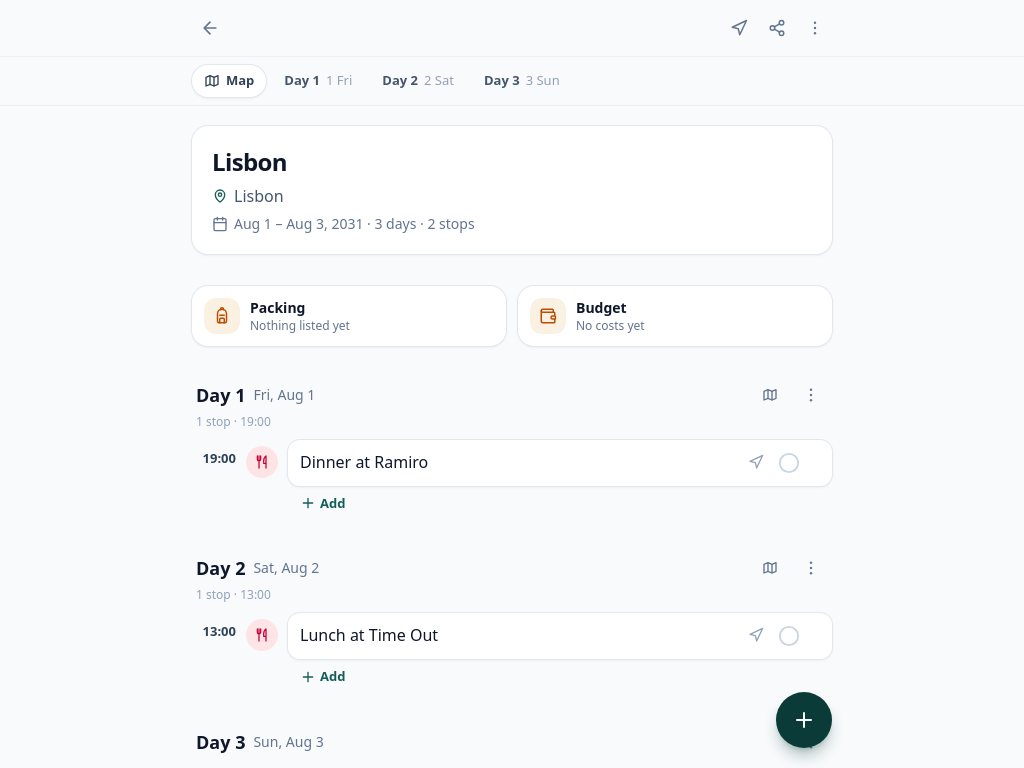
Test: Triplanner › fills in the airports from the flight number
The width and height of the screenshot is (1024, 768).
Click the button with aria-label "Edit Dinner at Ramiro" at (364, 462), box x1=300 y1=450 x2=428 y2=472
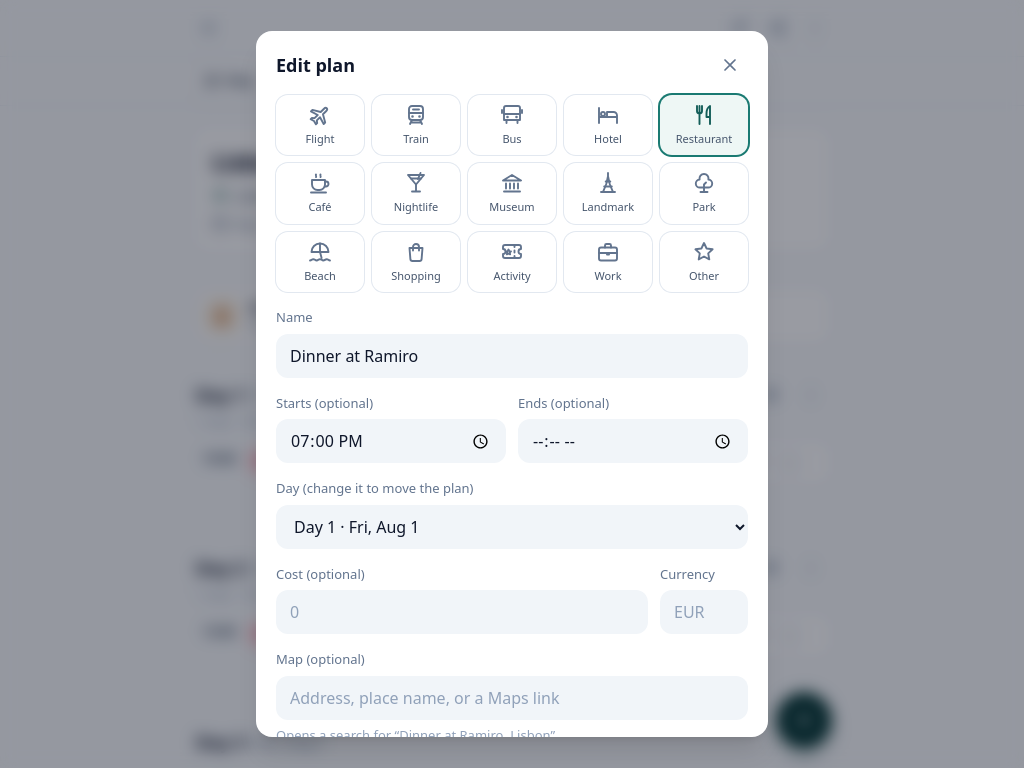
Click the radio button labelled "Flight" at (320, 125), box x1=276 y1=95 x2=364 y2=155
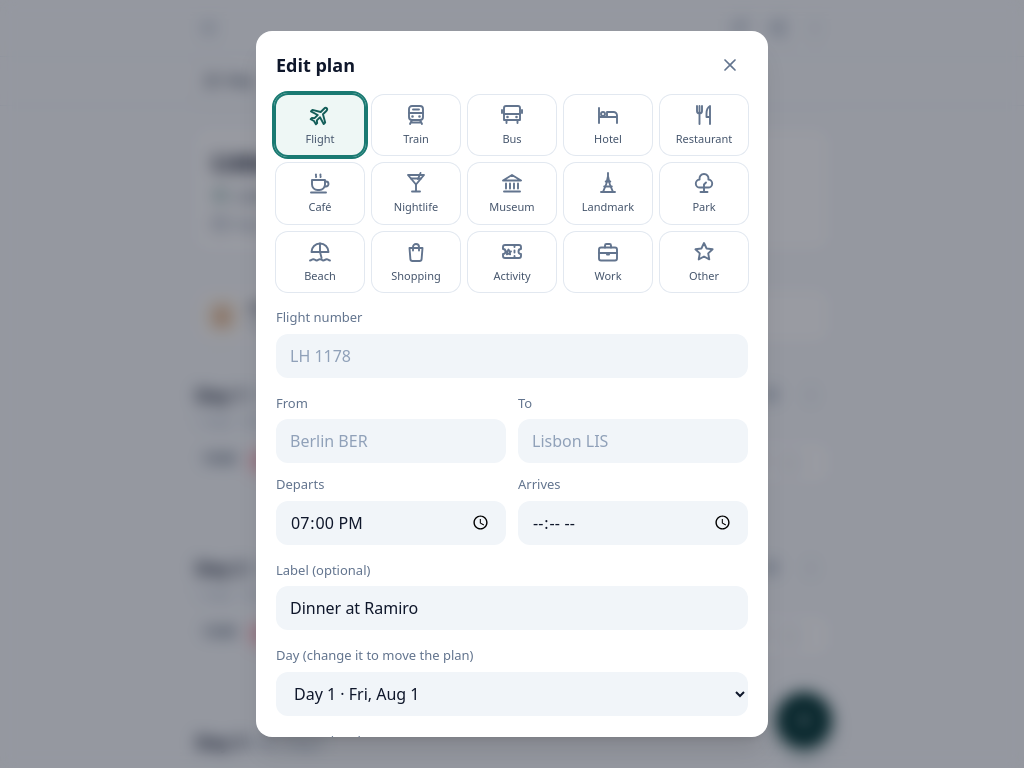
Type "lh 1178" into the field labelled "Flight number" at (512, 356), box x1=276 y1=334 x2=748 y2=378
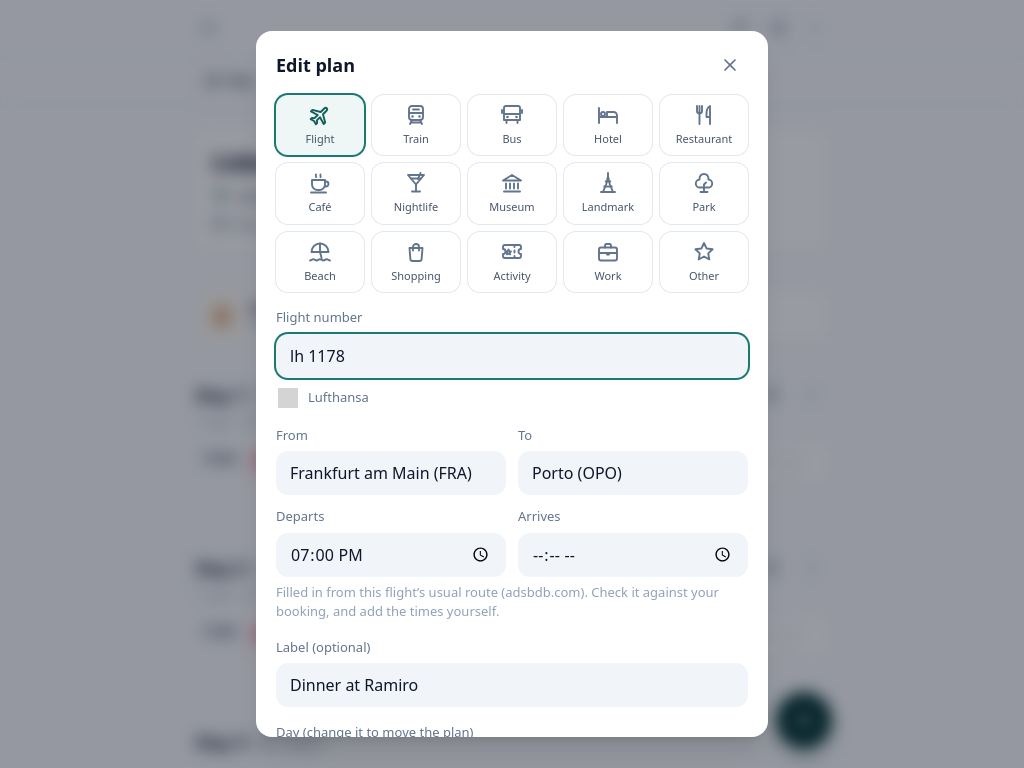
Expected: the field labelled "From" holds "Frankfurt am Main (FRA)", x1=276 y1=451 x2=506 y2=495
Expected: the field labelled "To" holds "Porto (OPO)", x1=518 y1=451 x2=748 y2=495
